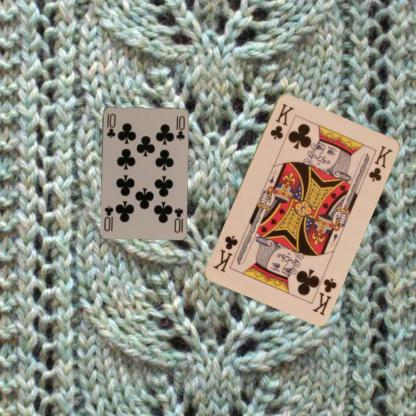10c: (104, 111, 117, 139), (172, 205, 184, 234)
Kc: (309, 275, 338, 317), (267, 101, 296, 141)
